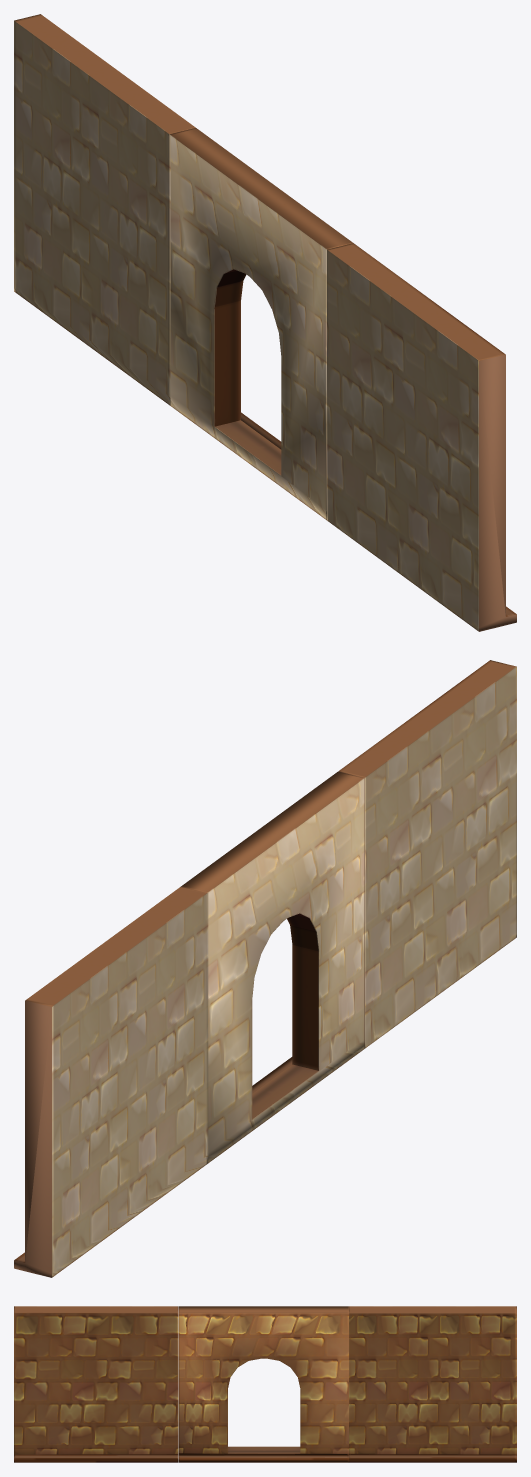
Rendered from map_tuong01 (1).fbx.
3 renders of one model, top to bottom at view 1: azimuth 30°, elevation 25°; view 2: azimuth 150°, elevation 25°; view 3: azimuth 270°, elevation 25°, orthographic. The views are drawn at different scales.
Parts seen in each view (by area): view 1: Cube.014, Cube.013, Cube.012; view 2: Cube.013, Cube.014, Cube.012; view 3: Cube.013, Cube.014, Cube.012.
Part boxes in pixels (x1=…): Cube.014: x1=327, y1=243, x2=516, y2=631; Cube.013: x1=14, y1=14, x2=195, y2=405; Cube.012: x1=170, y1=128, x2=353, y2=520; Cube.013: x1=14, y1=886, x2=208, y2=1277; Cube.014: x1=338, y1=660, x2=516, y2=1048; Cube.012: x1=181, y1=771, x2=364, y2=1162; Cube.013: x1=349, y1=1306, x2=516, y2=1462; Cube.014: x1=14, y1=1306, x2=178, y2=1462; Cube.012: x1=178, y1=1306, x2=348, y2=1462.
Bounding box in the file's own units: 2.99 × 20.4 × 63.51.
Materials: 1 (1 with a texture image).
